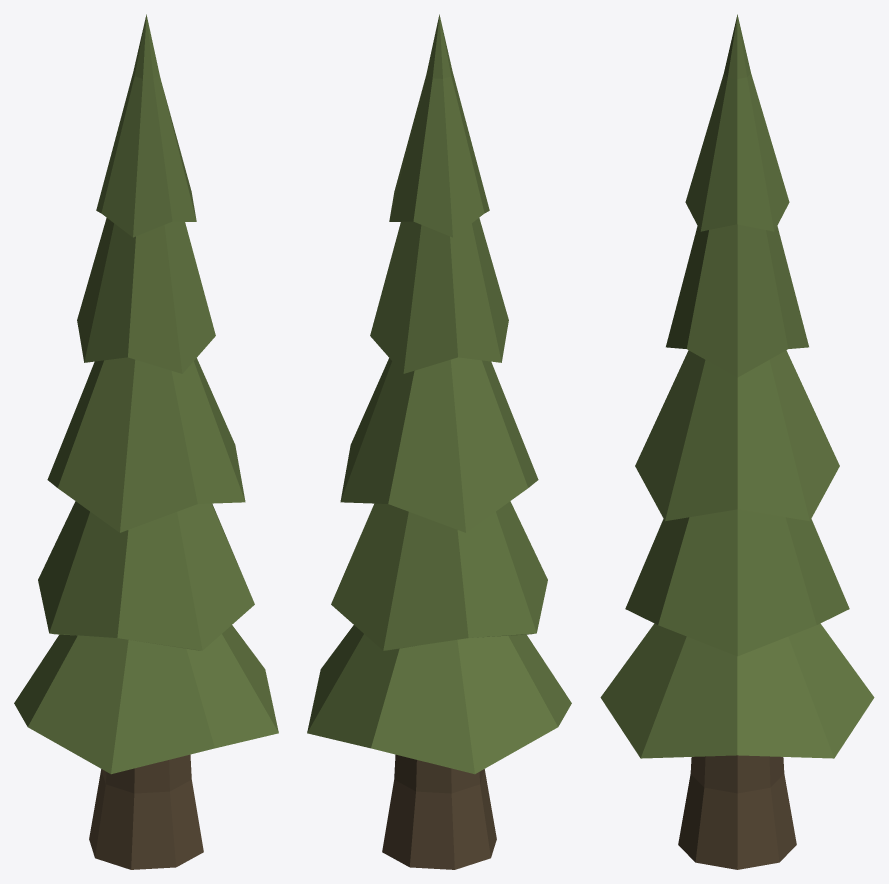
Rendered from Pine_Tree.fbx.
The picture shows the model from 3 angles, left to right: view 1: azimuth 30°, elevation 25°; view 2: azimuth 150°, elevation 25°; view 3: azimuth 270°, elevation 25°; orthographic projection.
Visible parts, largest first — view 1: Tree_v3; view 2: Tree_v3; view 3: Tree_v3.
Part boxes in pixels (x1,y1,x2,y2): Tree_v3: (14, 14, 278, 869); Tree_v3: (307, 14, 571, 869); Tree_v3: (600, 14, 874, 869).
Size of the model in its own units: 168 by 562 by 168.
